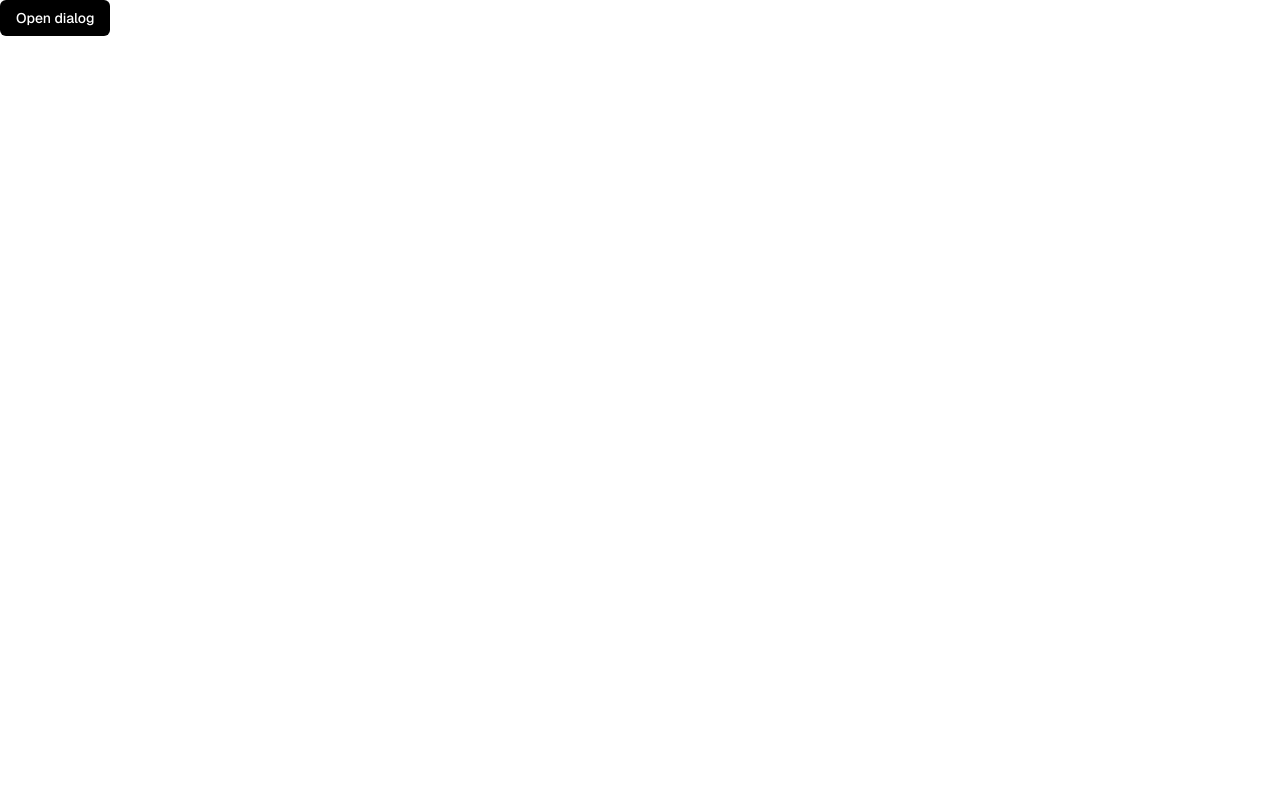
it: Dialog › opens and shows the title
Click the button "Open dialog" at coordinates (55, 18), box [0,0,110,36]
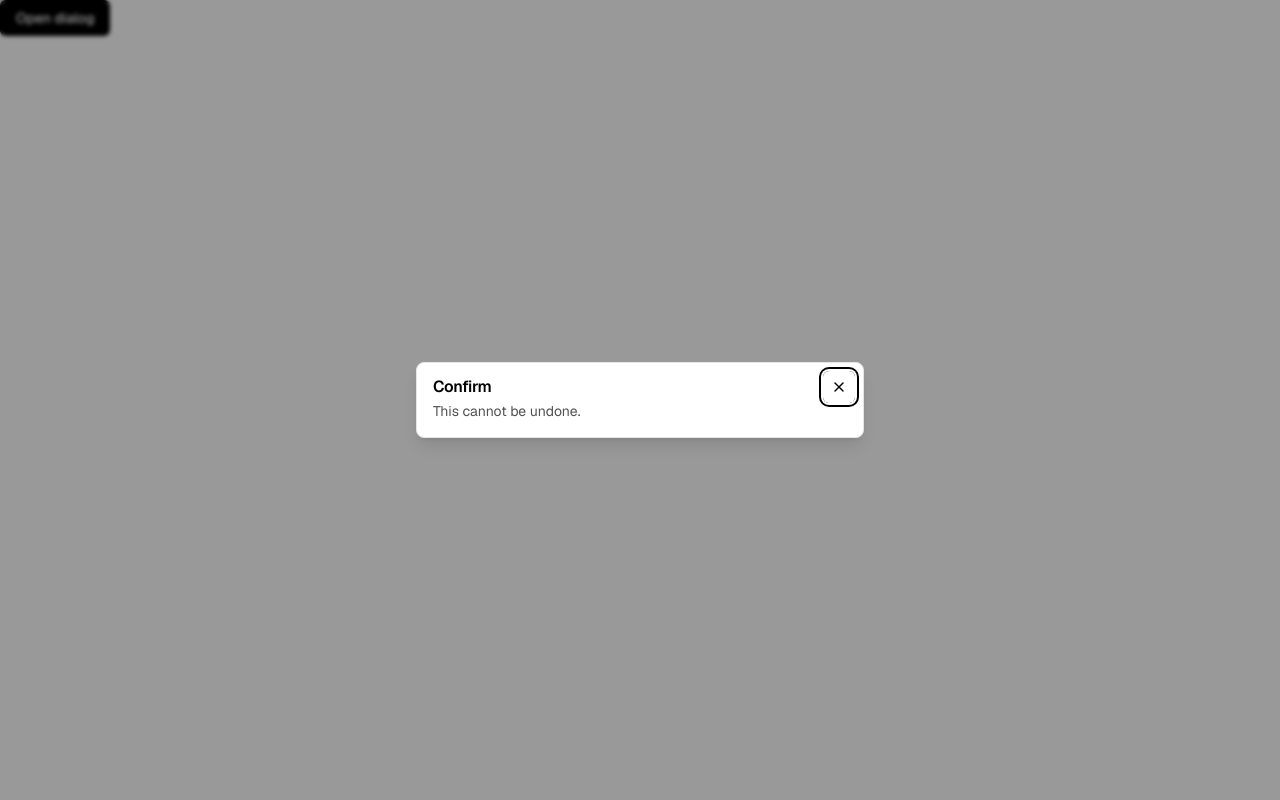
Check: the dialog is shown, box [416,362,864,438]
Check: the heading "Confirm" is shown, box [433,376,491,397]
